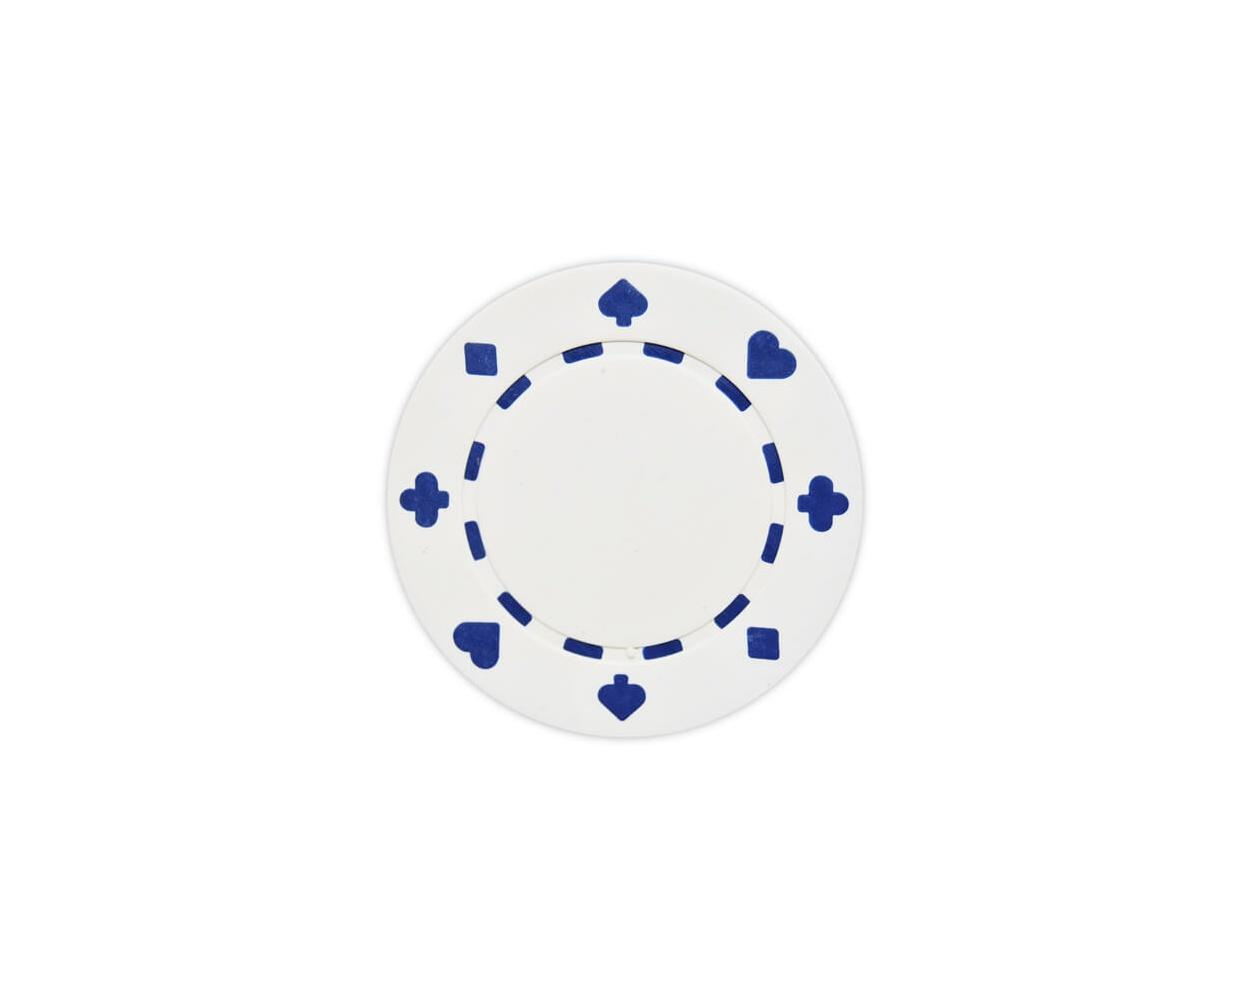chip-white: (388, 261, 862, 738)
